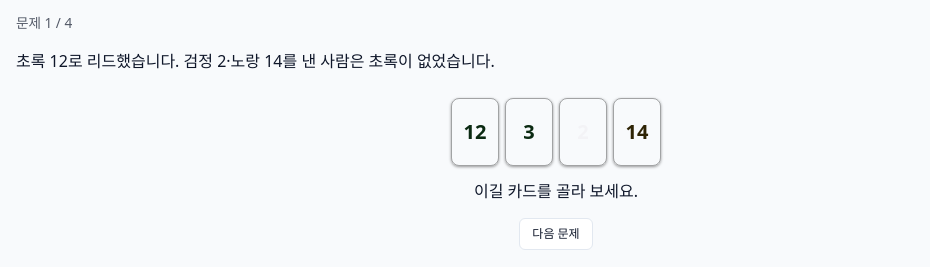
Test case: TrickQuiz › 문제 2 의 정답은 인어
This screenshot has width=930, height=267.
Step 1. Click the button "다음 문제" → [556, 234], box [519, 218, 593, 250]
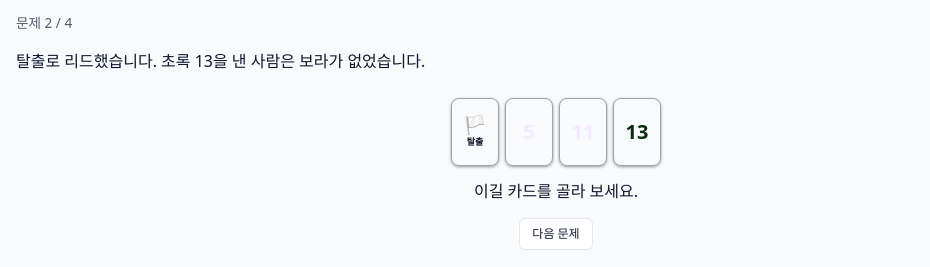
Step 2. Click the button "다음 문제" → [556, 234], box [519, 218, 593, 250]
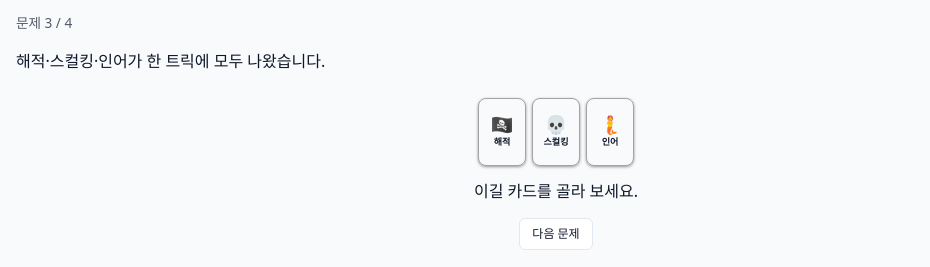
Step 3. Click the button "🧜 인어" → [610, 132], box [586, 98, 634, 166]
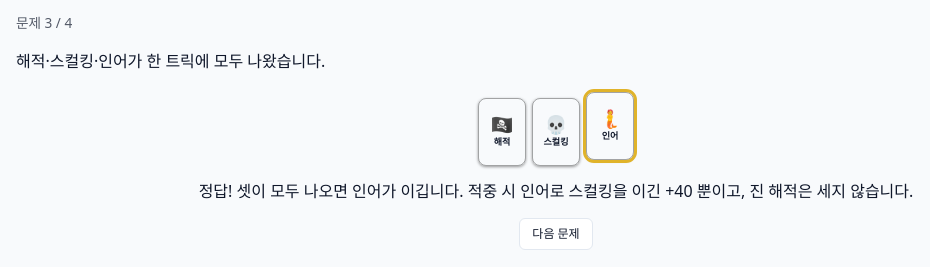
Expected: the message shows "정답!", [199, 180, 913, 202]
